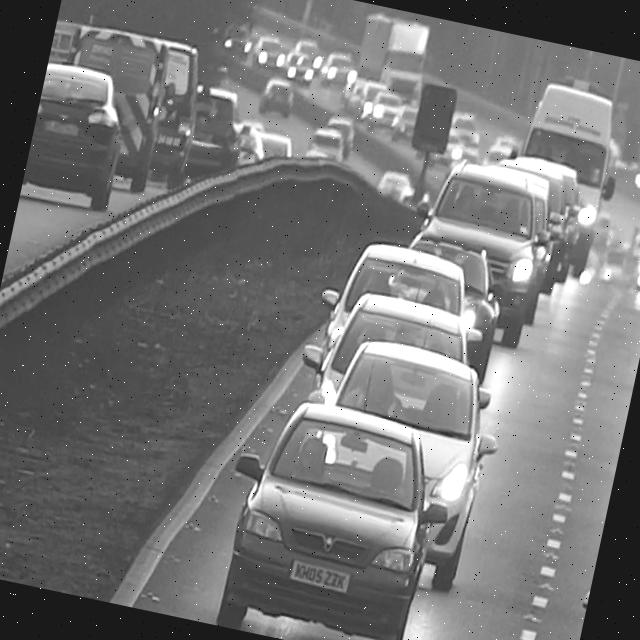Autre: (287, 556, 352, 596)
